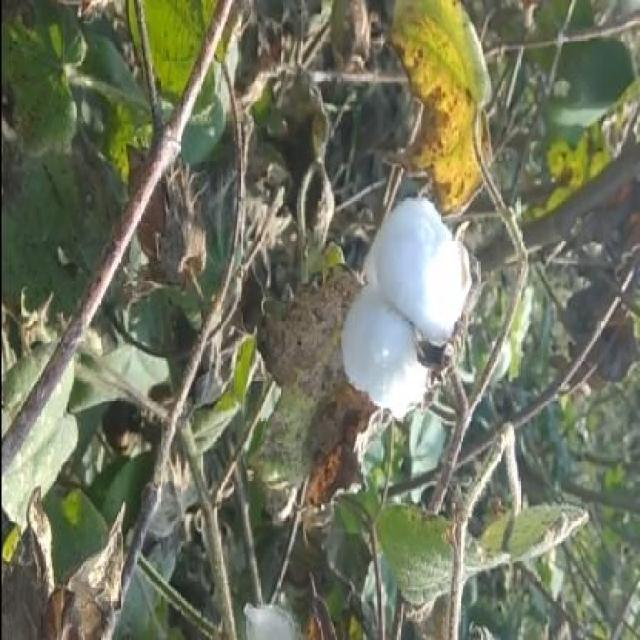cotton_ready: (345, 171, 486, 435)
